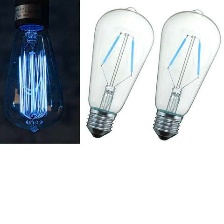light_bulb: (150, 6, 224, 142), (85, 3, 157, 142), (0, 12, 68, 135)
